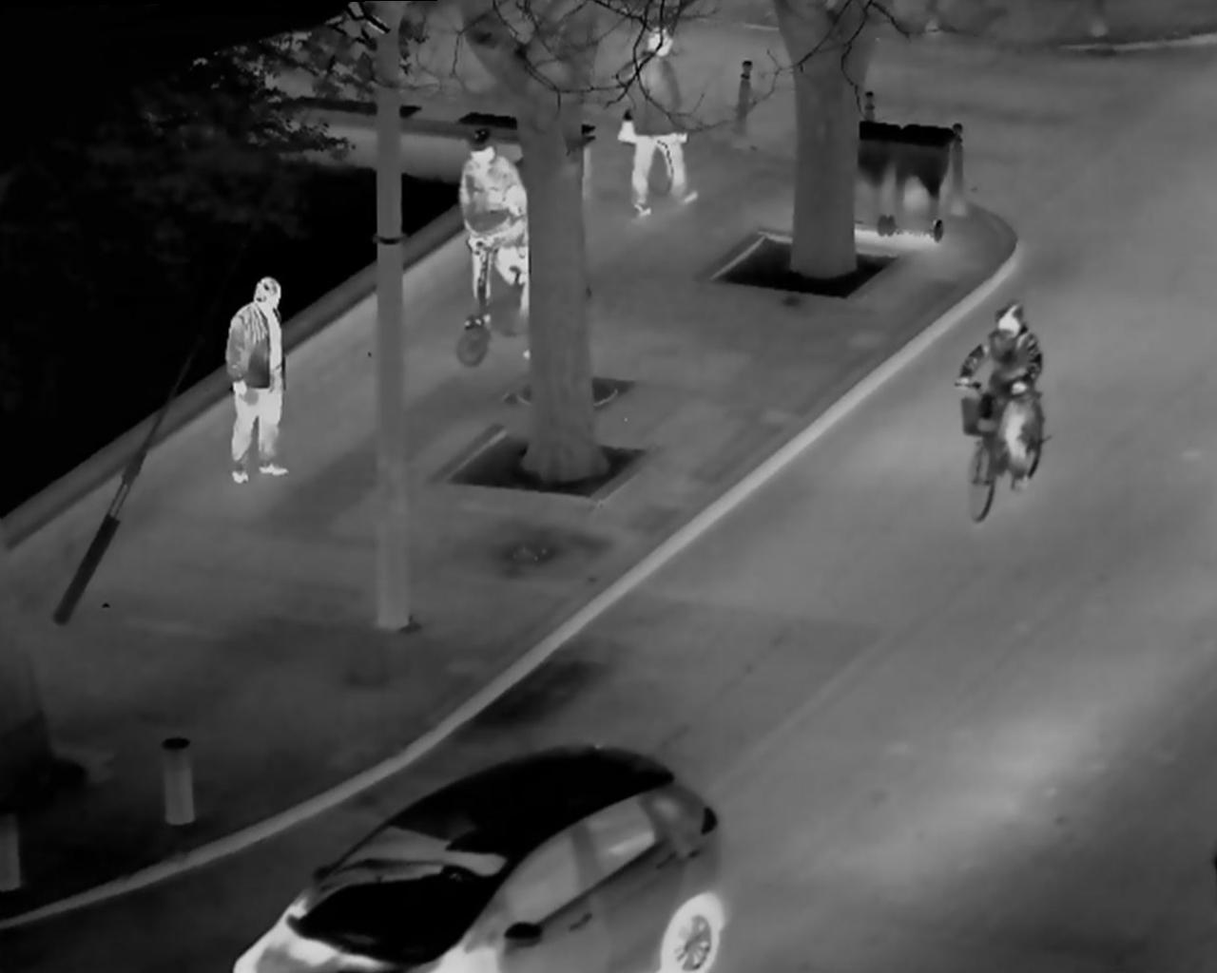person: (947, 293, 1060, 535), (206, 257, 311, 503), (448, 115, 535, 336), (621, 15, 695, 218)
